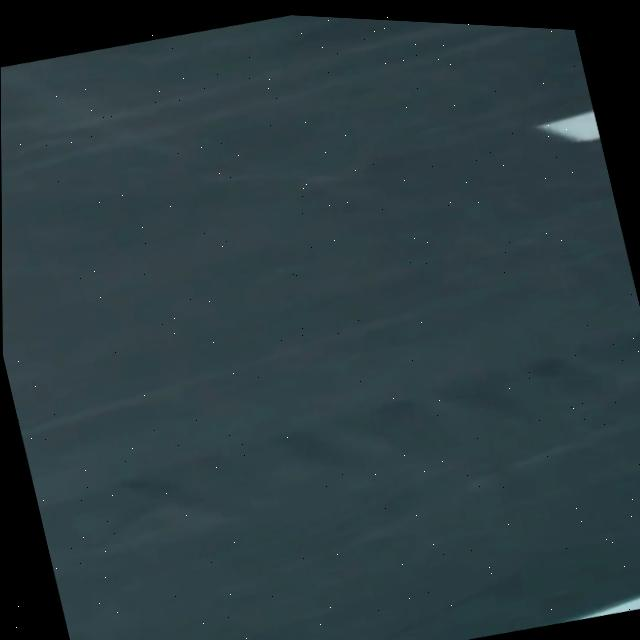center: (536, 110, 600, 140)
left: (569, 596, 640, 620)
